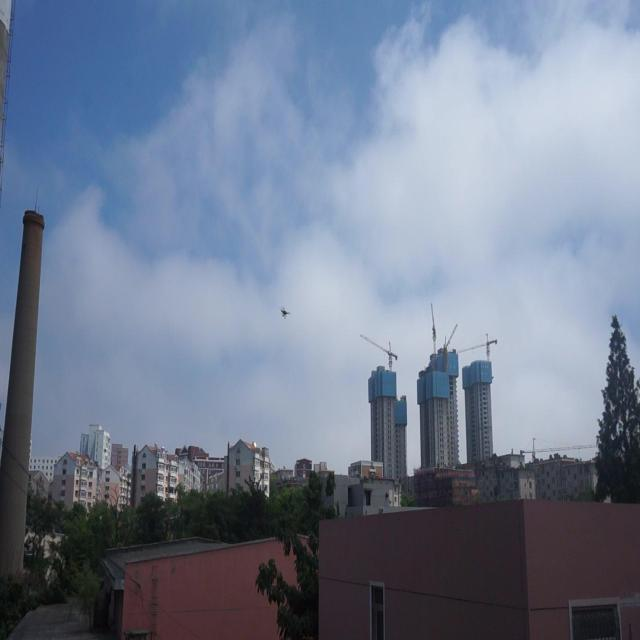drone: (278, 304, 290, 320)
